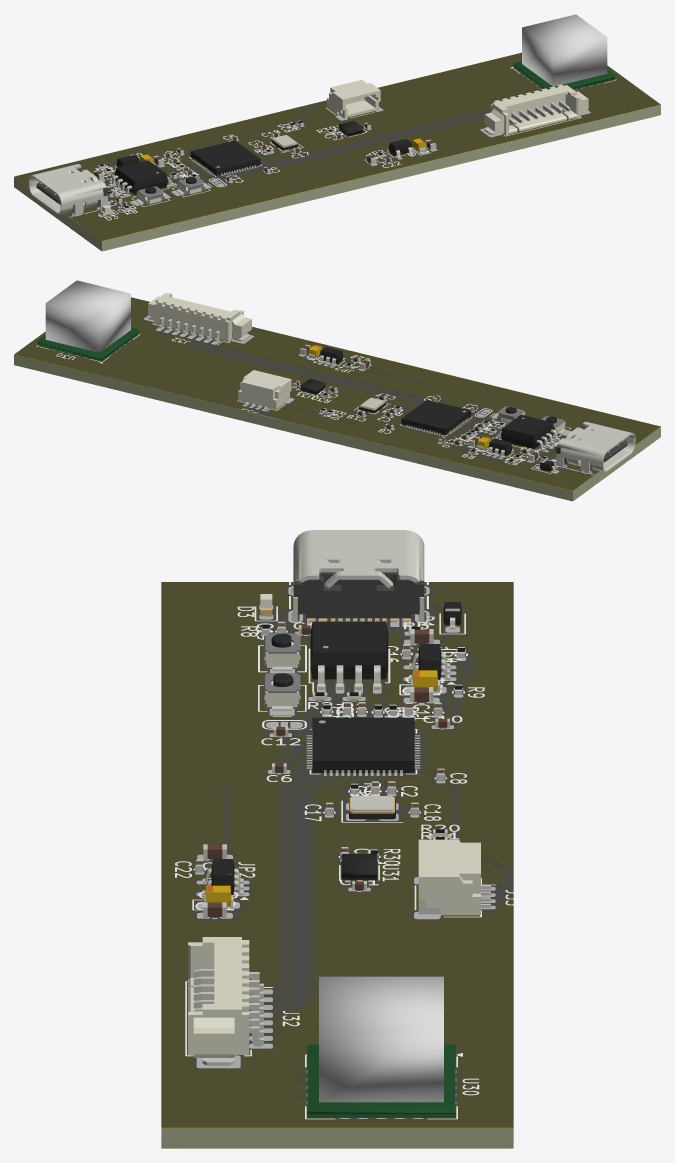
File: air-quality.glb
3 views of the same model, one above another, from view 1: azimuth 30°, elevation 25°; view 2: azimuth 150°, elevation 25°; view 3: azimuth 270°, elevation 25° (orthographic). The views are drawn at different scales.
Visible parts, largest first — view 1: Board, CO2 sensor, RP2040 core, Dust sensor, USB-C power, Display connector, 3.3 V regulator, VOC sensor; view 2: Board, CO2 sensor, RP2040 core, Dust sensor, USB-C power, Display connector, 3.3 V regulator, VOC sensor; view 3: Board, CO2 sensor, RP2040 core, USB-C power, Dust sensor, Display connector, 3.3 V regulator, VOC sensor.
Part boxes in pixels (x1=…): Board: x1=14, y1=52, x2=660, y2=251; CO2 sensor: x1=514, y1=14, x2=615, y2=89; RP2040 core: x1=98, y1=132, x2=300, y2=207; Dust sensor: x1=484, y1=84, x2=588, y2=135; USB-C power: x1=28, y1=164, x2=113, y2=215; Display connector: x1=327, y1=79, x2=380, y2=118; 3.3 V regulator: x1=93, y1=138, x2=436, y2=180; VOC sensor: x1=326, y1=121, x2=370, y2=139; Board: x1=14, y1=297, x2=660, y2=501; CO2 sensor: x1=37, y1=280, x2=138, y2=361; RP2040 core: x1=357, y1=394, x2=566, y2=463; Dust sensor: x1=147, y1=293, x2=251, y2=341; USB-C power: x1=538, y1=421, x2=635, y2=473; Display connector: x1=238, y1=370, x2=291, y2=409; 3.3 V regulator: x1=300, y1=344, x2=539, y2=461; VOC sensor: x1=293, y1=379, x2=337, y2=397; Board: x1=161, y1=581, x2=513, y2=1148; CO2 sensor: x1=307, y1=976, x2=455, y2=1117; RP2040 core: x1=264, y1=621, x2=464, y2=819; USB-C power: x1=293, y1=530, x2=461, y2=634; Dust sensor: x1=188, y1=937, x2=263, y2=1065; Display connector: x1=418, y1=839, x2=490, y2=915; 3.3 V regulator: x1=196, y1=629, x2=450, y2=917; VOC sensor: x1=341, y1=847, x2=377, y2=890.
Bounding box in the file's own units: 0.0892 × 0.00795 × 0.024.
